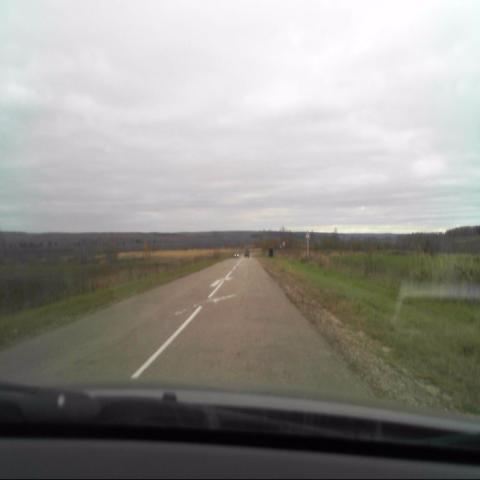1_11: (304, 229, 310, 241)
